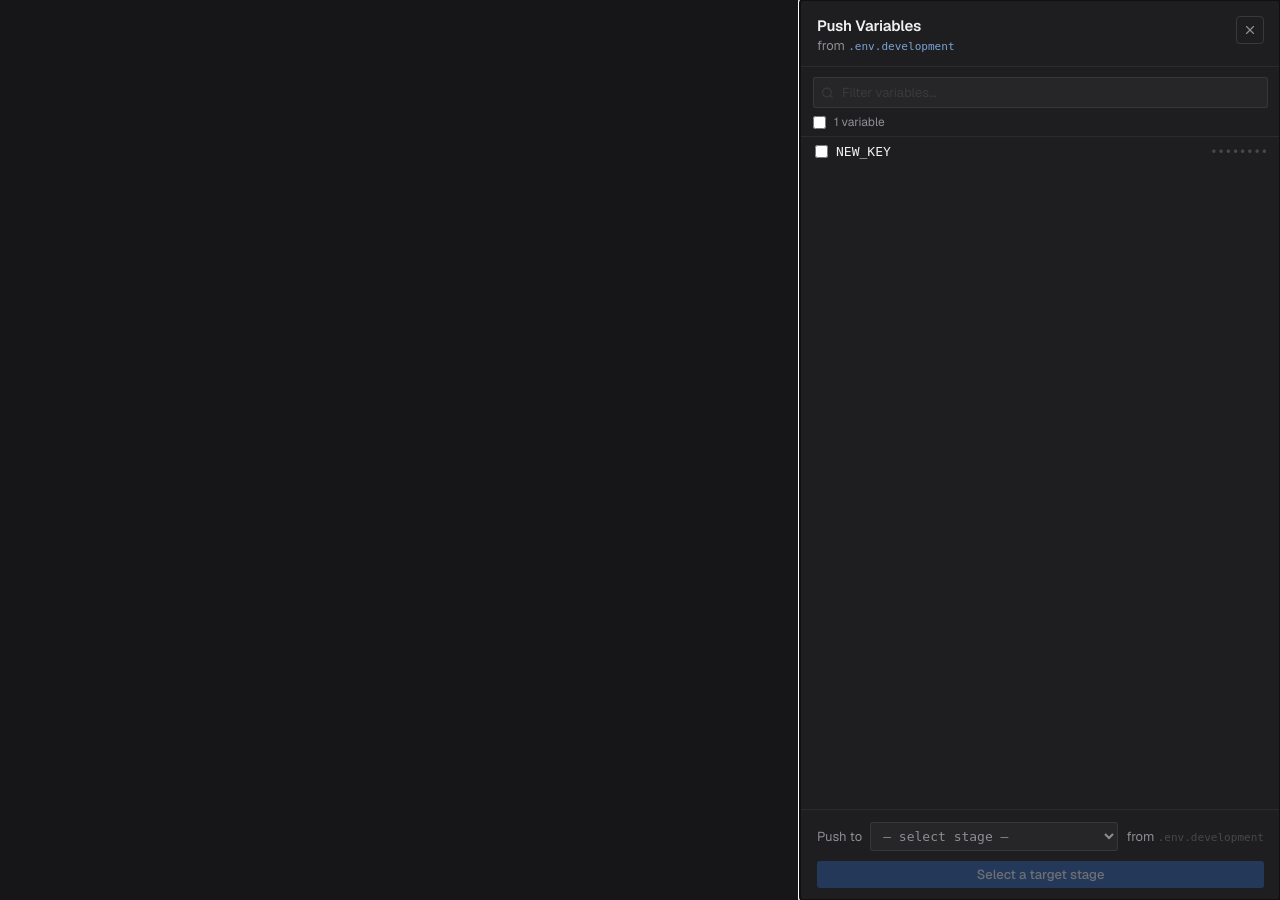
Test case: PushToStagePanel › Push action › shows error message on push failure
The width and height of the screenshot is (1280, 900).
Click the row "NEW_KEY ••••••••" at (863, 152), box 815,144 -> 1268,159
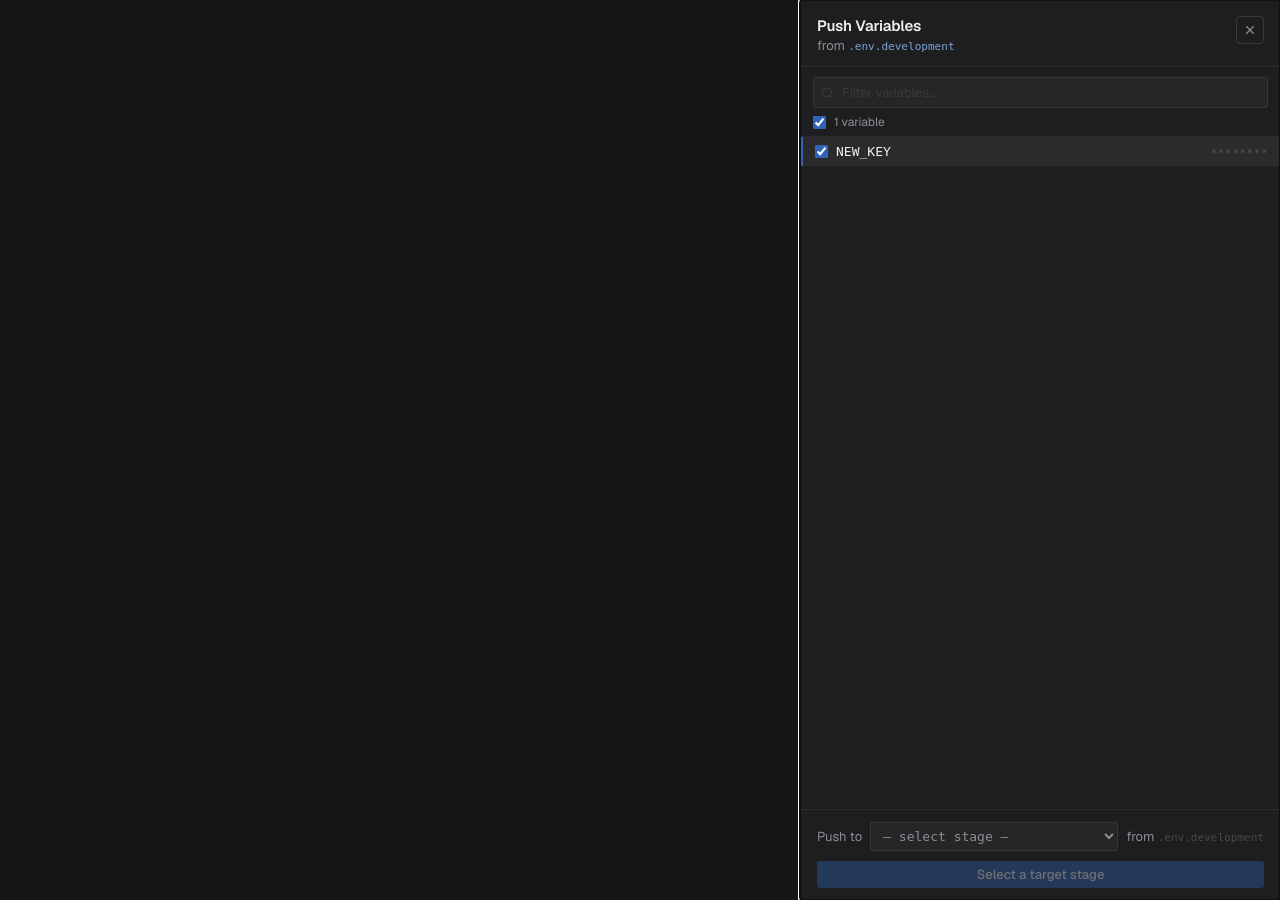
Select ".env.staging (empty)" in the dropdown with test id "stage-selector" at (994, 836), box 870,822 -> 1118,851
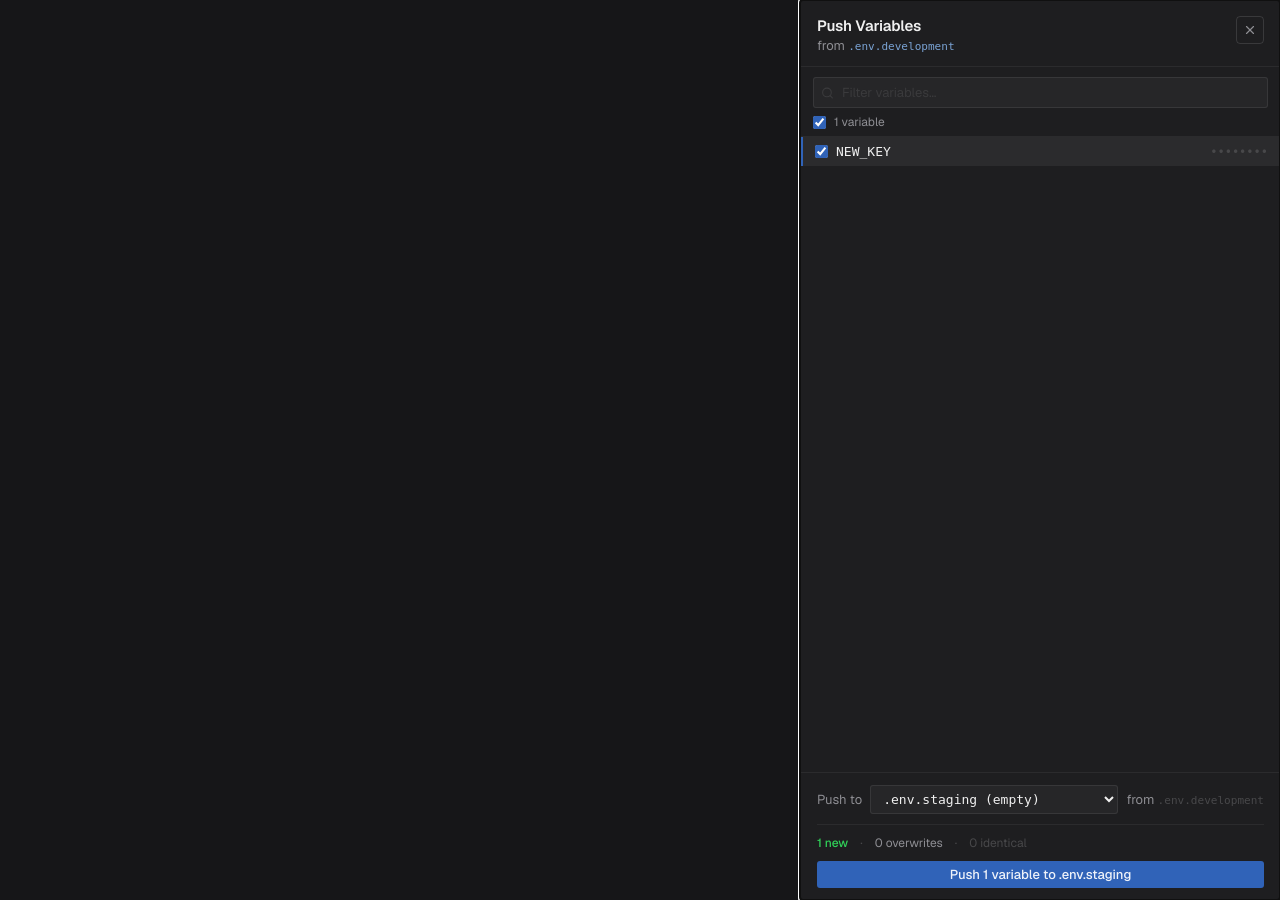
Check: the button with test id "push-cta-button" is enabled
Click the button with test id "push-cta-button" at (1040, 874), box 817,861 -> 1264,888
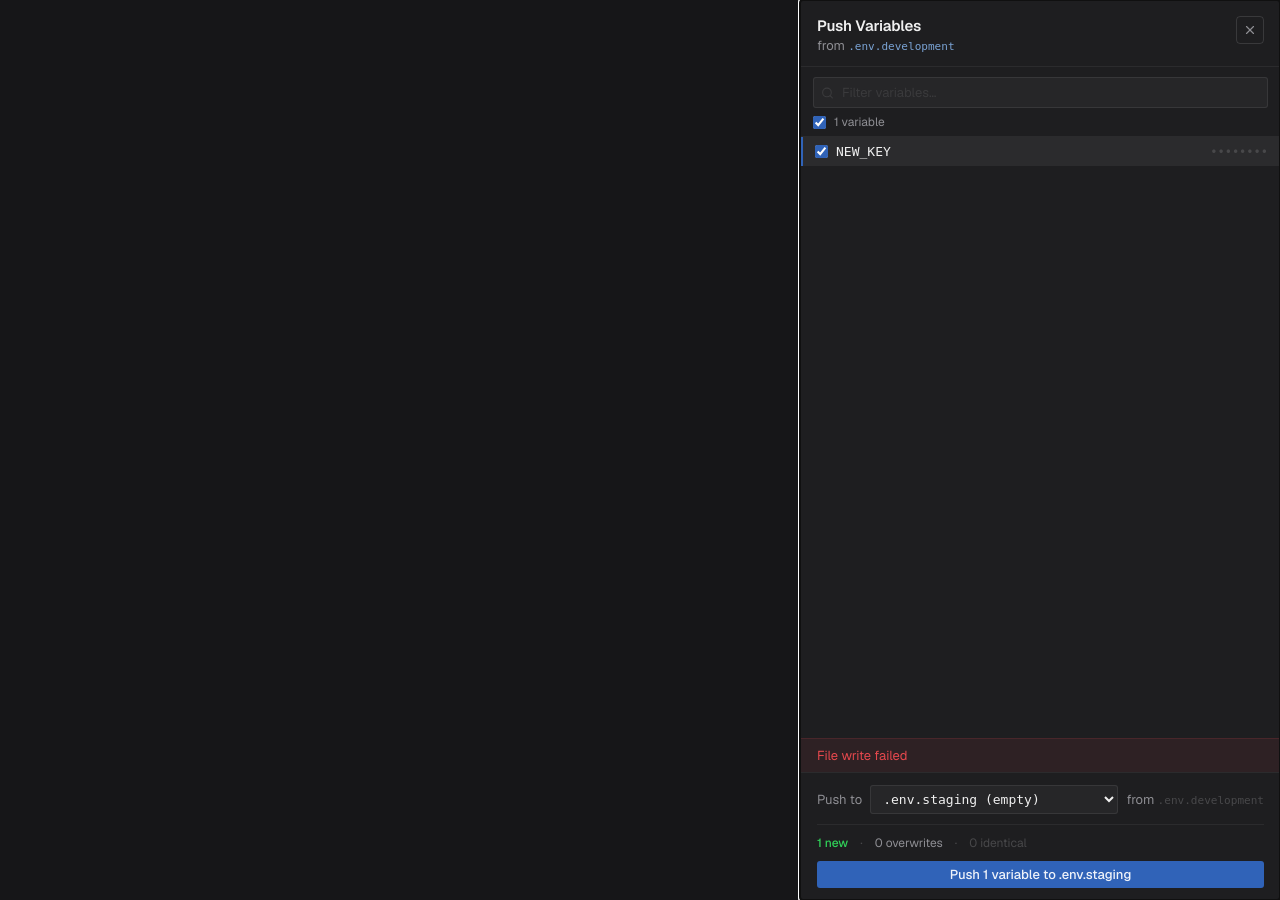
Check: the text "File write failed" is shown, box 801,738 -> 1279,772
